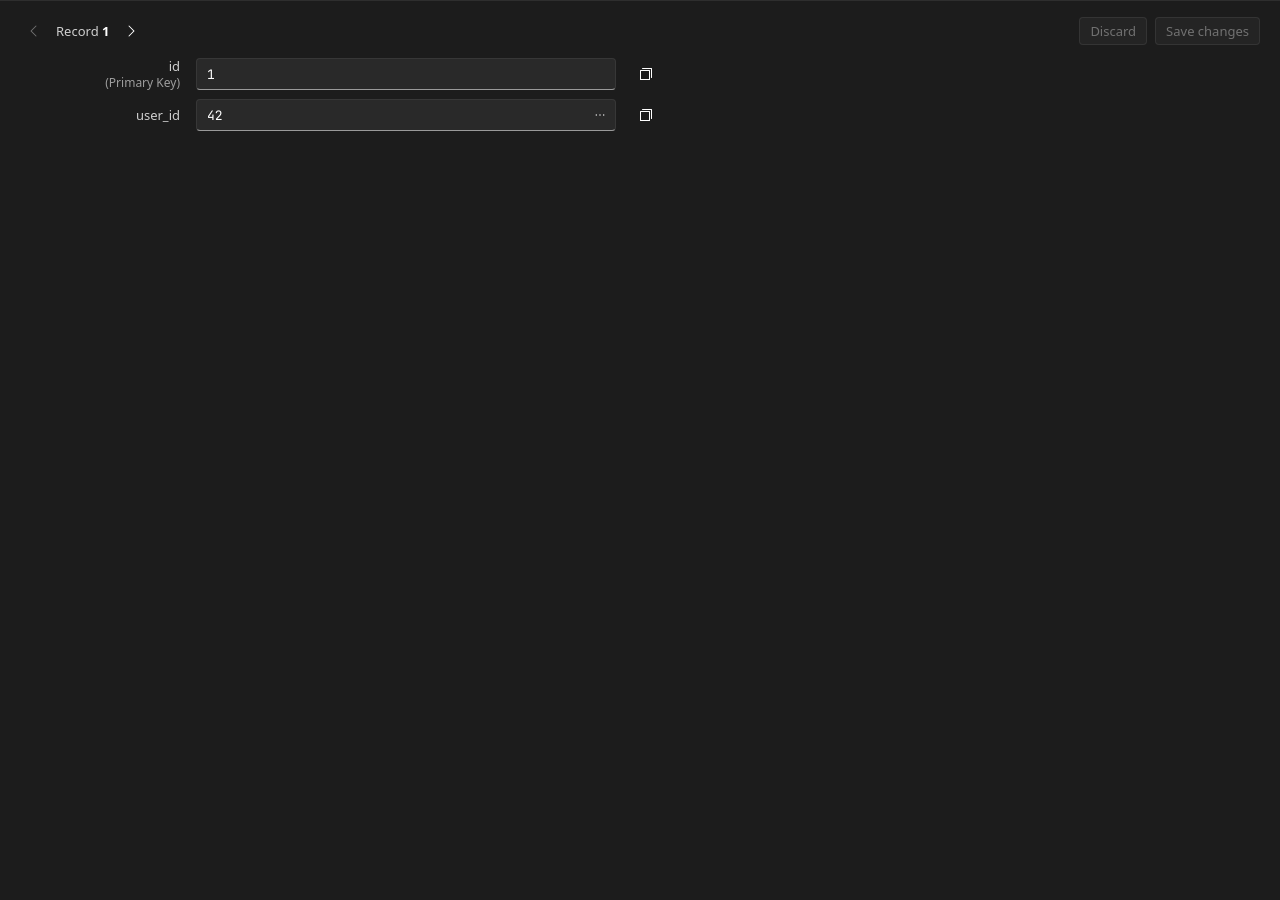
Test: TableDataFormView › uses referencedDatabase for cross-database FK lookups
Click the button with test id "fk-lookup-trigger" at (600, 115), box x1=586 y1=101 x2=614 y2=129
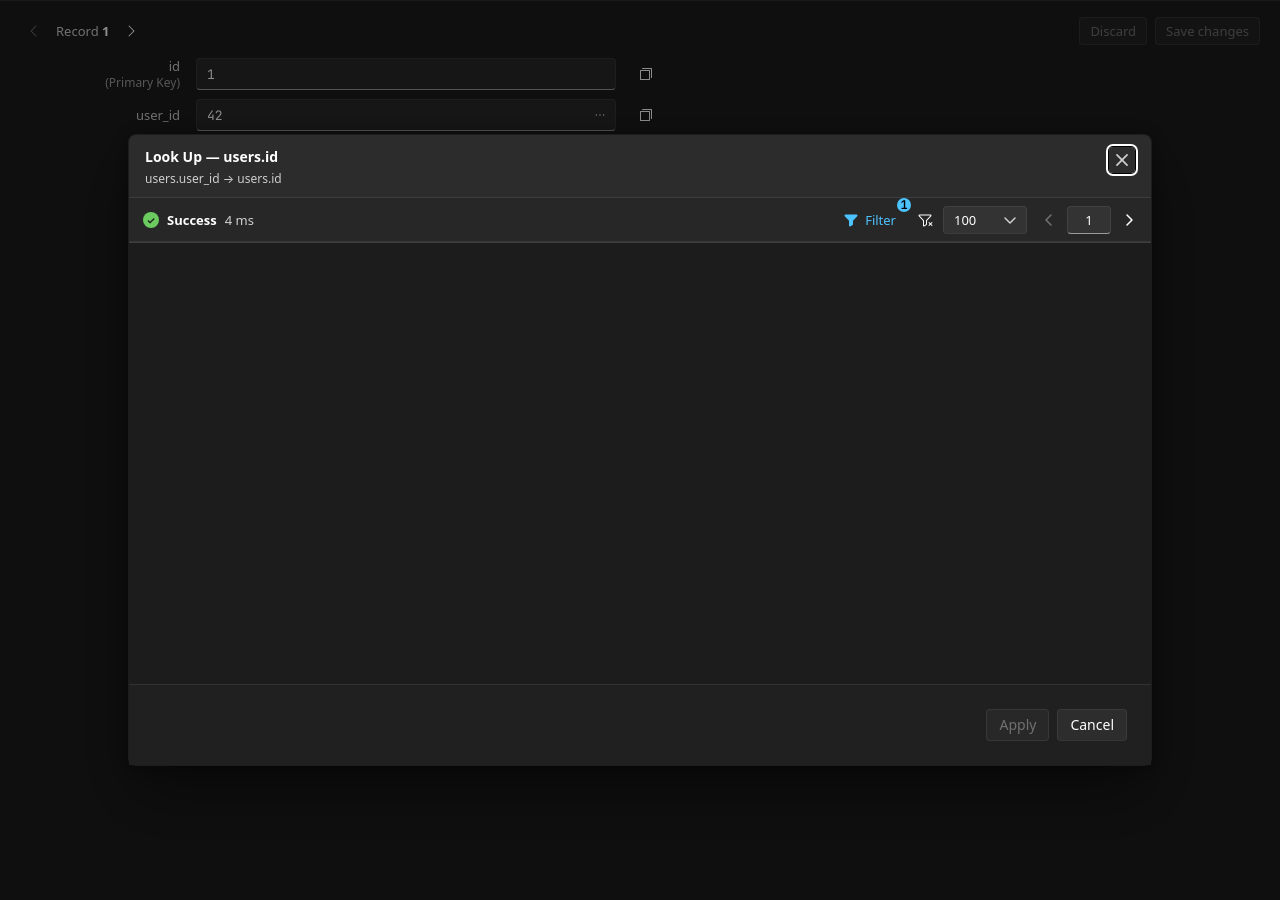
Check: the dialog with test id "fk-lookup-dialog" is shown
